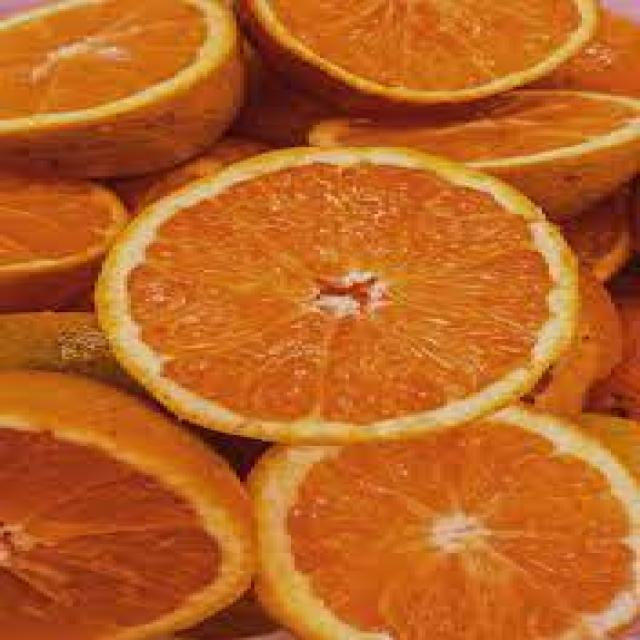orange: (91, 138, 589, 444)
